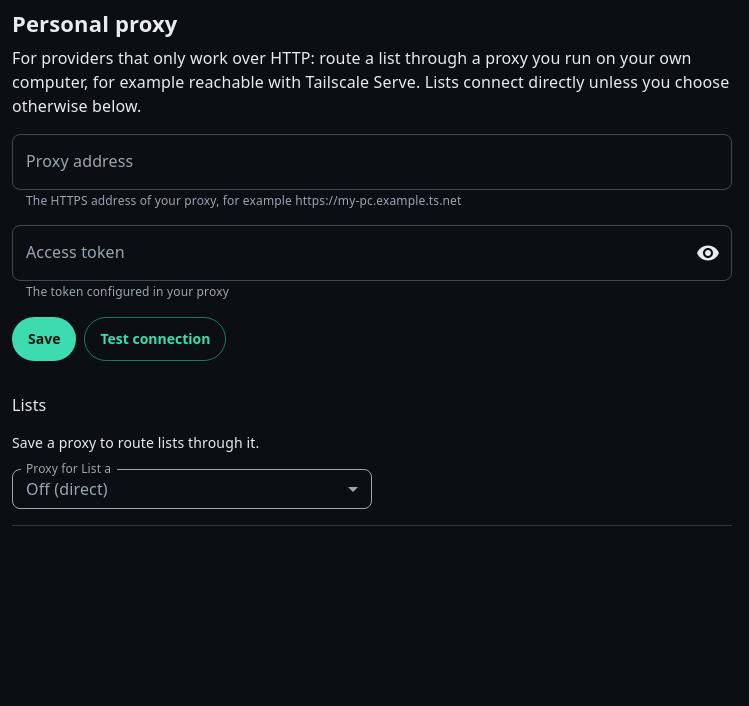
it: ProxySection (PRX-01 AC1) › save: address in the settings, token in the vault; the token is never shown back
The width and height of the screenshot is (749, 706).
Type "https://PC.example.test/" into the field labelled "Proxy address" at (372, 162), box [12, 134, 732, 190]
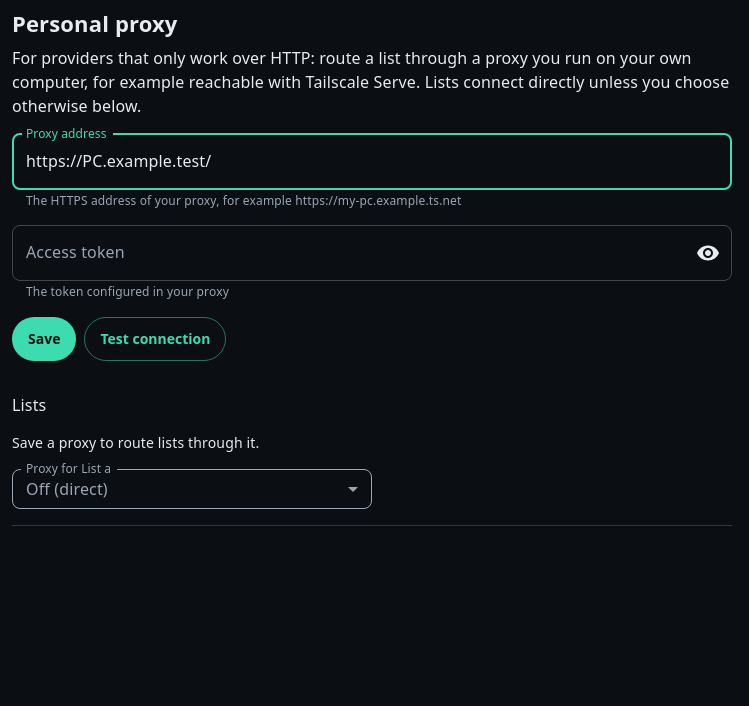
Type "tok_ABCDEFGHIJKLMNOPQRSTUVWXYZ-0123456789" into the password field labelled "Access token" at (345, 253), box [12, 225, 678, 281]
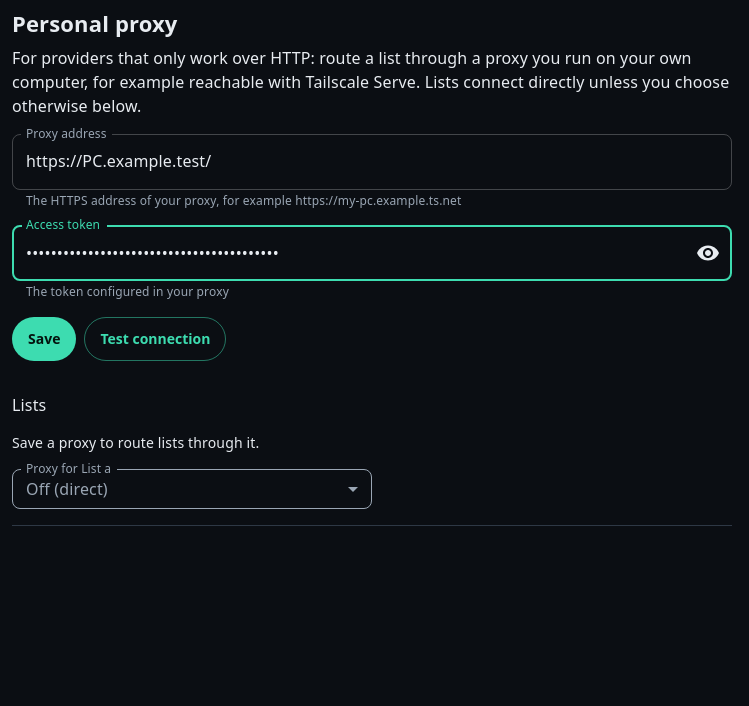
Click the button "Save" at (44, 339), box [12, 317, 76, 361]
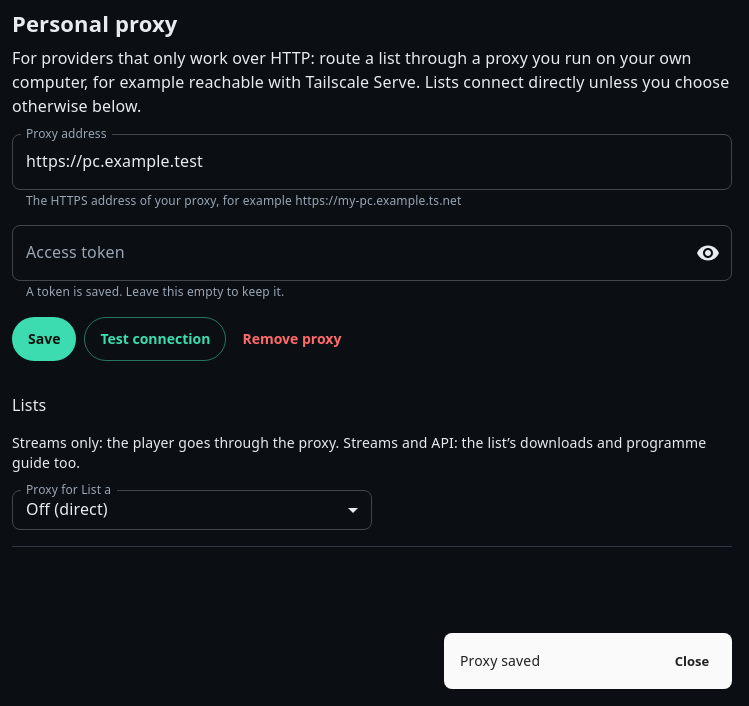
Expected: the field labelled "Proxy address" holds "https://pc.example.test", [12, 134, 732, 190]
